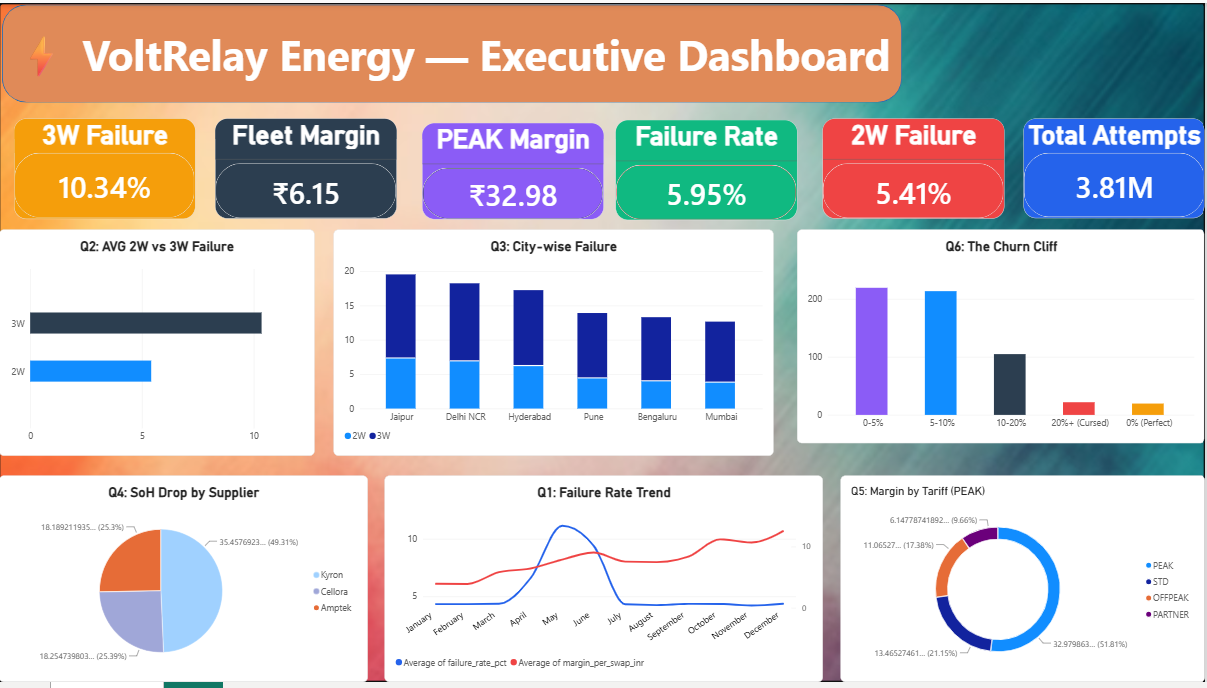

Layout of this report page (visuals, bound fields, positions):
{"tool":"powerbi","page":{"name":"Page 1","canvas":[1920,1080],"ordinal":0},"visuals":[{"type":"cardVisual","title":"Total Attempts","fields":{"Data":["Min(KPI_Manual.value)"]},"box":[1629.9,184.3,289.1,158.7],"z":2},{"type":"cardVisual","title":"2W Failure","fields":{"Data":["Min(KPI_Manual.value)"]},"box":[1309.6,184.3,289,159],"z":3},{"type":"cardVisual","title":"3W Failure","fields":{"Data":["Min(KPI_Manual.value)"]},"box":[23.9,183.7,288.7,159.9],"z":4},{"type":"cardVisual","title":"Failure Rate","fields":{"Data":["Min(KPI_Manual.value)"]},"box":[980.8,187.1,289,159],"z":5},{"type":"cardVisual","title":"Fleet Margin","fields":{"Data":["Min(KPI_Manual.value)"]},"box":[343,184.3,289,159],"z":6},{"type":"cardVisual","title":"PEAK Margin","fields":{"Data":["Min(KPI_Manual.value)"]},"box":[671.8,189.9,289.1,153.1],"z":7},{"type":"shape","box":[5.7,2.8,1431.5,155.9],"z":8},{"type":"columnChart","title":"Q3: City-wise Failure","fields":{"Category":["02_city_vehicle.city"],"Series":["02_city_vehicle.vehicle_class"],"Y":["Avg(02_city_vehicle.failure_rate_pct)"]},"box":[532.9,360,700.2,360],"z":11},{"type":"lineChart","title":"Q1: Failure Rate Trend","fields":{"Category":["01_monthly_trend.month.Variation.Date Hierarchy.Month"],"Y":["Avg(01_monthly_trend.failure_rate_pct)"],"Y2":["Avg(01_monthly_trend.margin_per_swap_inr)"]},"box":[612.3,751.2,697.3,328.8],"z":12},{"type":"clusteredBarChart","title":"Q2: AVG 2W vs 3W Failure ","fields":{"Category":["08_vehicle_failure.vehicle_class"],"Y":["Avg(08_vehicle_failure.failure_rate_pct)"]},"box":[0,360,501.7,360],"z":13},{"type":"pieChart","title":"Q4: SoH Drop by Supplier","fields":{"Category":["03_supplier_degradation.supplier"],"Y":["Avg(03_supplier_degradation.soh_drop)"]},"box":[0,751.2,586.8,328.8],"z":14},{"type":"donutChart","title":"Q5: Margin by Tariff (PEAK)","fields":{"Category":["04_tariff_margins.tariff_code"],"Y":["Sum(04_tariff_margins.margin_per_swap)"]},"box":[1338,751.2,581.1,328.8],"z":15},{"type":"columnChart","title":"Q6: The Churn Cliff","fields":{"Category":["06_churn_bands.fail_band"],"Y":["Avg(06_churn_bands.avg_completed_swaps)"]},"box":[1269.9,360,649.1,340.2],"z":16}]}

Visuals, with their boxes in screenshot pixels (x1, y1, x2, y2), scaled from the page's 1920x1080 canvas onto the 1207x688 screenshot:
"Total Attempts" cardVisual: [left=1025, top=117, right=1206, bottom=219]
"2W Failure" cardVisual: [left=823, top=117, right=1005, bottom=219]
"3W Failure" cardVisual: [left=15, top=117, right=197, bottom=219]
"Failure Rate" cardVisual: [left=617, top=119, right=798, bottom=220]
"Fleet Margin" cardVisual: [left=216, top=117, right=397, bottom=219]
"PEAK Margin" cardVisual: [left=422, top=121, right=604, bottom=219]
shape: [left=4, top=2, right=903, bottom=101]
"Q3: City-wise Failure" columnChart: [left=335, top=229, right=775, bottom=459]
"Q1: Failure Rate Trend" lineChart: [left=385, top=479, right=823, bottom=687]
"Q2: AVG 2W vs 3W Failure " clusteredBarChart: [left=0, top=229, right=315, bottom=459]
"Q4: SoH Drop by Supplier" pieChart: [left=0, top=479, right=369, bottom=687]
"Q5: Margin by Tariff (PEAK)" donutChart: [left=841, top=479, right=1206, bottom=687]
"Q6: The Churn Cliff" columnChart: [left=798, top=229, right=1206, bottom=446]
